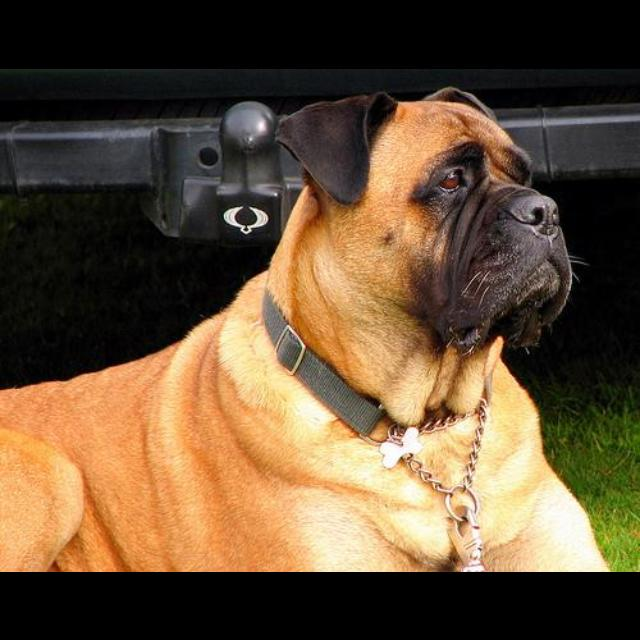bullmastiff: (2, 85, 635, 571)
